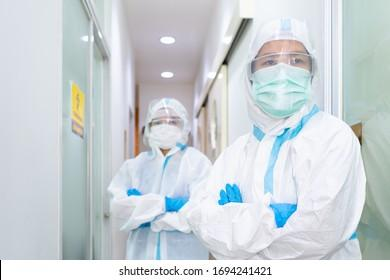gloves: (271, 202, 297, 227), (219, 182, 243, 203), (166, 196, 191, 210), (129, 189, 142, 197)
